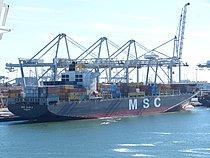Ship: (9, 68, 202, 128)
